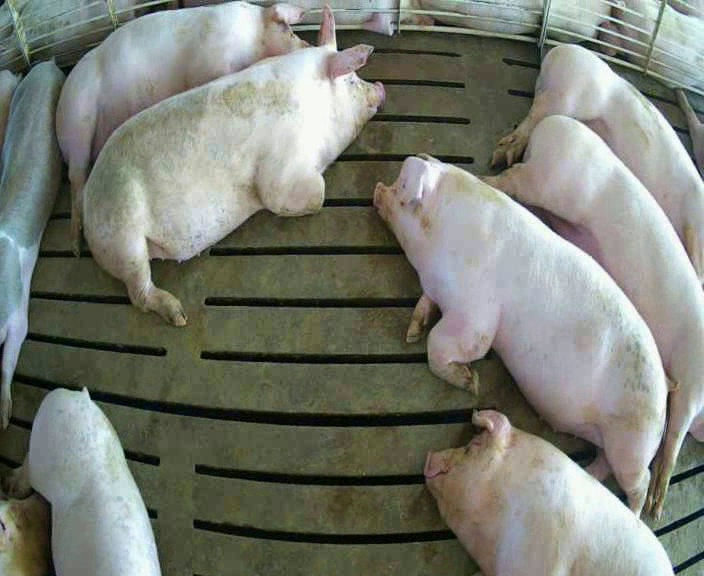pig: (374, 157, 676, 513), (84, 9, 384, 325), (56, 2, 306, 252), (492, 44, 703, 280), (424, 411, 672, 573), (5, 388, 158, 574), (2, 61, 63, 427)
